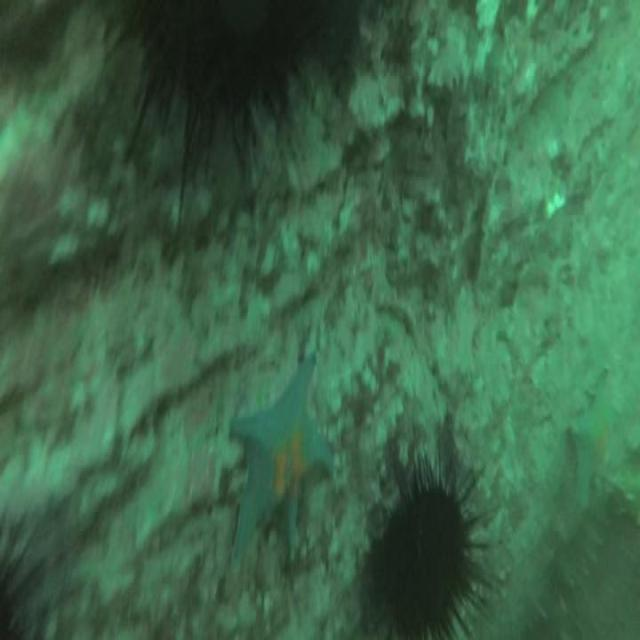echinus: (103, 0, 342, 216), (373, 444, 490, 640)
holothurian: (546, 485, 612, 610), (599, 462, 640, 534)
starfish: (227, 351, 337, 583), (567, 373, 635, 521)
